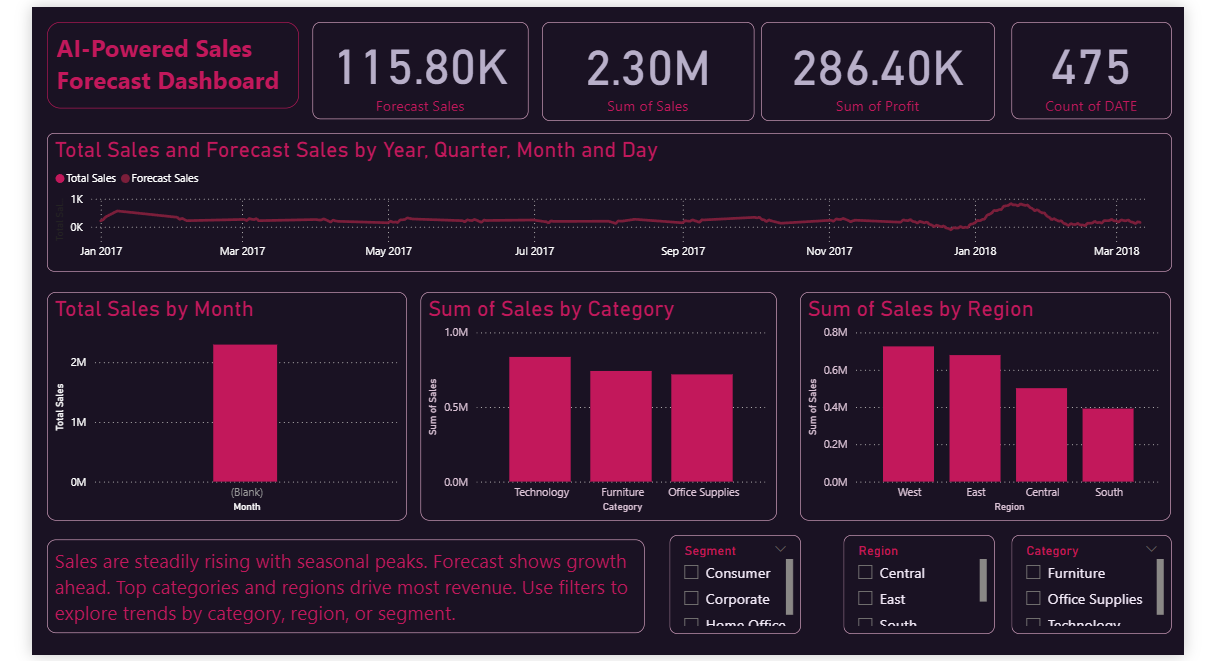

This screenshot's page, from the dashboard's own definition file:
{"tool":"powerbi","page":{"name":"Page 1","canvas":[1280,720],"ordinal":0},"visuals":[{"type":"card","fields":{"Values":["Sum(ACTUAL SALES.Sales)"]},"box":[566,16,236,110],"z":0},{"type":"card","fields":{"Values":["CountNonNull(FORECAST SALES.DATE)"]},"box":[1088,16,178,108],"z":1000},{"type":"card","fields":{"Values":["Sum(ACTUAL SALES.Profit)"]},"box":[810,16,260,110],"z":2000},{"type":"lineChart","fields":{"Category":["DateTable.Date.Variation.Date Hierarchy.Year","DateTable.Date.Variation.Date Hierarchy.Quarter","DateTable.Date.Variation.Date Hierarchy.Month","DateTable.Date.Variation.Date Hierarchy.Day"],"Y":["ACTUAL SALES.Total Sales","ACTUAL SALES.Forecast Sales"]},"box":[16,140,1250,154],"z":3000},{"type":"card","fields":{"Values":["ACTUAL SALES.Forecast Sales"]},"box":[312,16,240,108],"z":4000},{"type":"clusteredColumnChart","fields":{"Category":["DateTable.Date.Variation.Date Hierarchy.Month"],"Y":["ACTUAL SALES.Total Sales"]},"box":[16,316,400,254],"z":5000},{"type":"clusteredColumnChart","fields":{"Category":["ACTUAL SALES.Category"],"Y":["Sum(ACTUAL SALES.Sales)"]},"box":[432,316,396,254],"z":6000},{"type":"clusteredColumnChart","fields":{"Category":["ACTUAL SALES.Region"],"Y":["Sum(ACTUAL SALES.Sales)"]},"box":[854,316,412,254],"z":7000},{"type":"slicer","fields":{"Values":["ACTUAL SALES.Category"]},"box":[1088,586,178,110],"z":8000},{"type":"slicer","fields":{"Values":["ACTUAL SALES.Region"]},"box":[902,586,168,110],"z":9000},{"type":"slicer","fields":{"Values":["ACTUAL SALES.Segment"]},"box":[708,586,146,110],"z":10000},{"type":"textbox","box":[16,592,664,104],"z":11000},{"type":"textbox","box":[16,16,280,96],"z":12000}]}

Visuals, with their boxes in screenshot pixels (x1, y1, x2, y2), scaled from the page's 1280x720 canvas onto the 1206x661 screenshot:
card - Sum(ACTUAL SALES.Sales): pyautogui.locateOnScreen(533, 15, 756, 116)
card - CountNonNull(FORECAST SALES.DATE): pyautogui.locateOnScreen(1025, 15, 1193, 114)
card - Sum(ACTUAL SALES.Profit): pyautogui.locateOnScreen(763, 15, 1008, 116)
lineChart - DateTable.Date.Variation.Date Hierarchy.Year x DateTable.Date.Variation.Date Hierarchy.Quarter: pyautogui.locateOnScreen(15, 129, 1193, 270)
card - ACTUAL SALES.Forecast Sales: pyautogui.locateOnScreen(294, 15, 520, 114)
clusteredColumnChart - DateTable.Date.Variation.Date Hierarchy.Month x ACTUAL SALES.Total Sales: pyautogui.locateOnScreen(15, 290, 392, 523)
clusteredColumnChart - ACTUAL SALES.Category x Sum(ACTUAL SALES.Sales): pyautogui.locateOnScreen(407, 290, 780, 523)
clusteredColumnChart - ACTUAL SALES.Region x Sum(ACTUAL SALES.Sales): pyautogui.locateOnScreen(805, 290, 1193, 523)
slicer - ACTUAL SALES.Category: pyautogui.locateOnScreen(1025, 538, 1193, 639)
slicer - ACTUAL SALES.Region: pyautogui.locateOnScreen(850, 538, 1008, 639)
slicer - ACTUAL SALES.Segment: pyautogui.locateOnScreen(667, 538, 805, 639)
textbox: pyautogui.locateOnScreen(15, 543, 641, 639)
textbox: pyautogui.locateOnScreen(15, 15, 279, 103)
